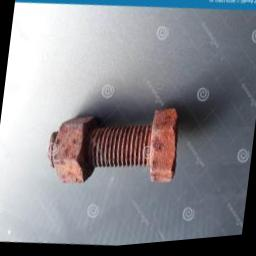Corroded-Nut-and-Bolt: (47, 112, 178, 184)
